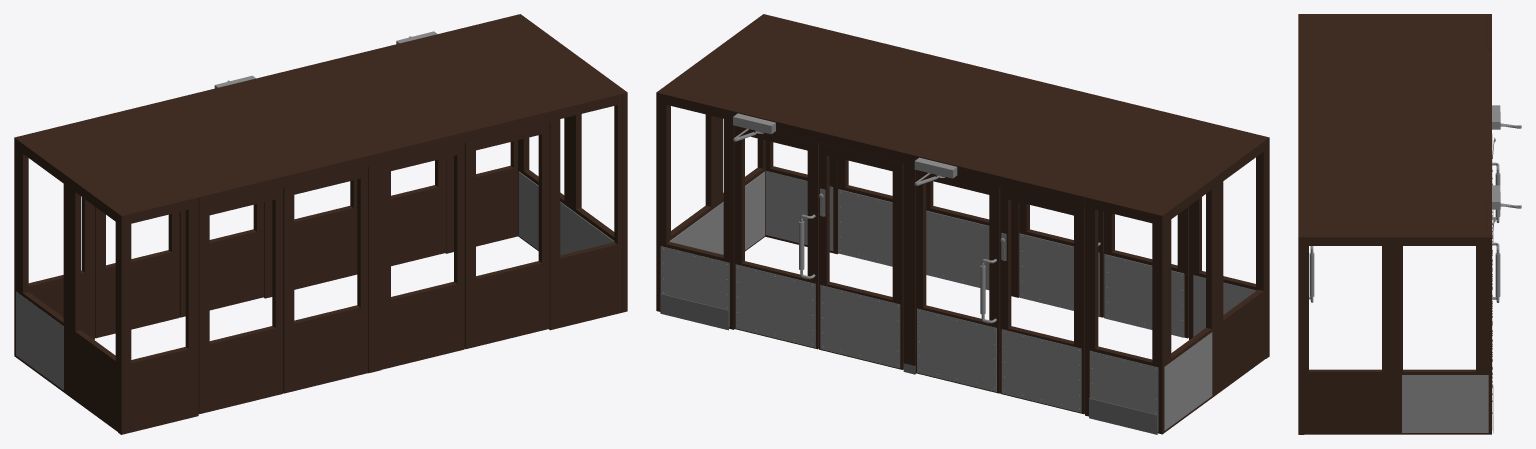
Rendered from EntranceDoorWIP.fbx.
3 views of the same model, side by side, from view 1: azimuth 30°, elevation 25°; view 2: azimuth 150°, elevation 25°; view 3: azimuth 270°, elevation 25° (orthographic). The views are drawn at different scales.
Visible parts, largest first — view 1: ExportWIP; view 2: ExportWIP; view 3: ExportWIP.
Part boxes in pixels (left/top/right/bottom): ExportWIP: left=14, top=14, right=627, bottom=434; ExportWIP: left=656, top=14, right=1269, bottom=434; ExportWIP: left=1298, top=14, right=1521, bottom=434.
Size of the model in its own units: 624 by 258 by 264.
